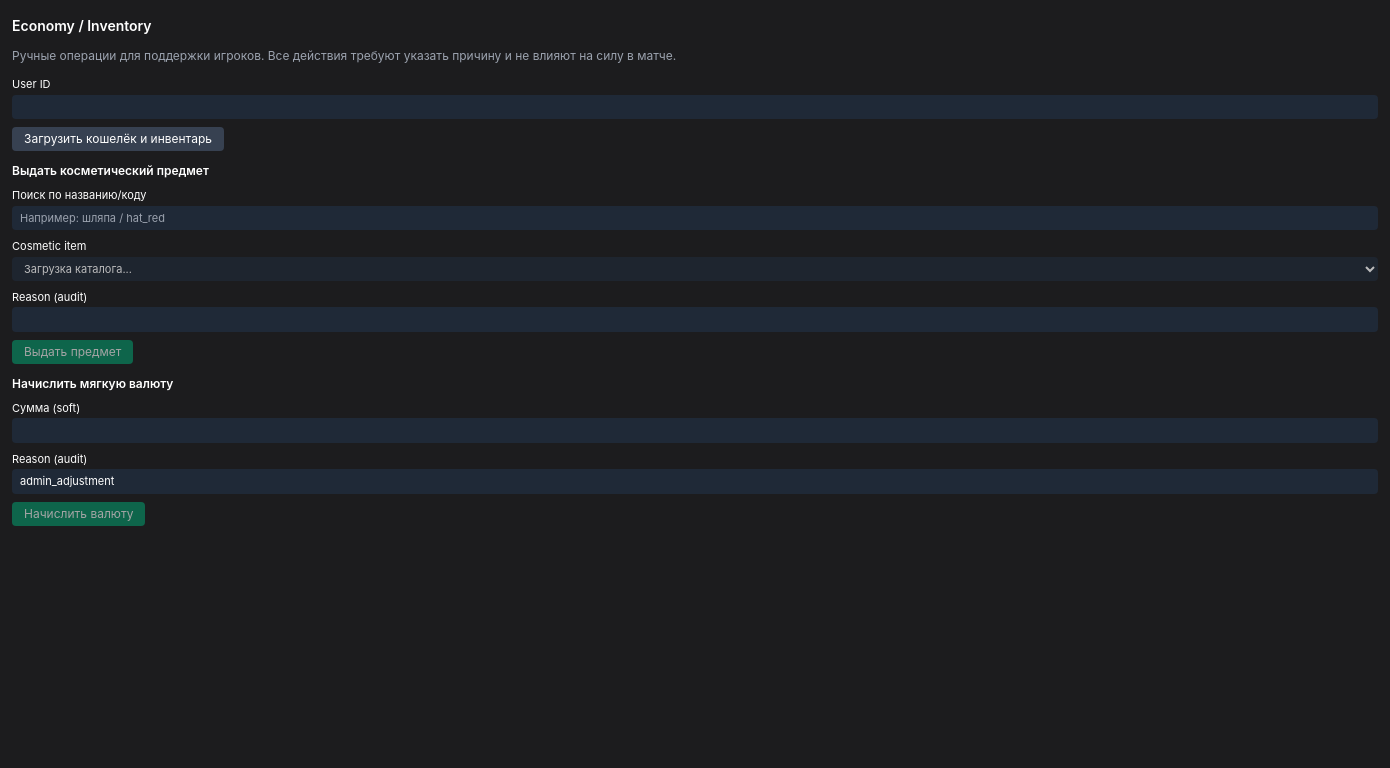
Test: AdminEconomySection › loads wallet and inventory for user
Type "u1" into the field labelled "User ID".
click(695, 107); type("u1")  # box left=12, top=94, right=1378, bottom=119
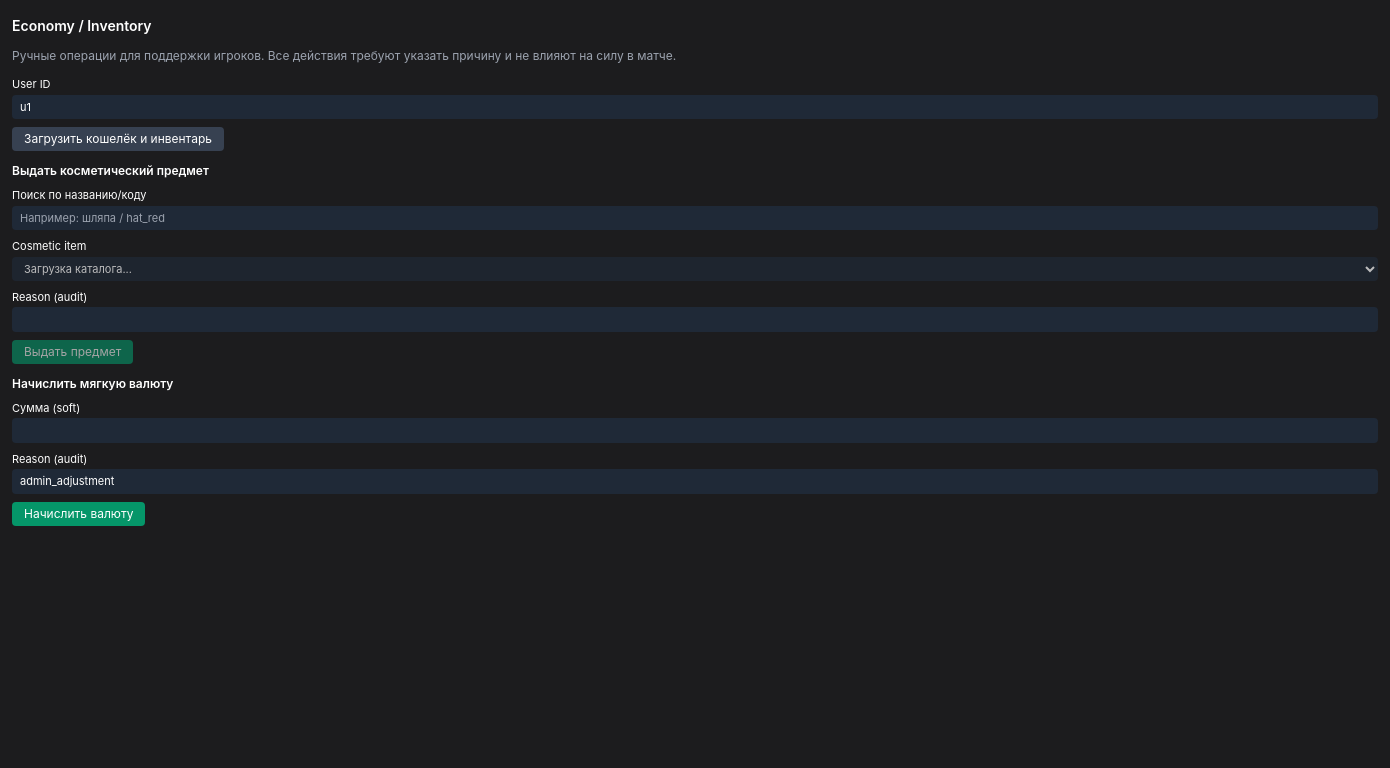
Click the button "Загрузить кошелёк и инвентарь".
click(118, 139)  # box left=12, top=127, right=224, bottom=151
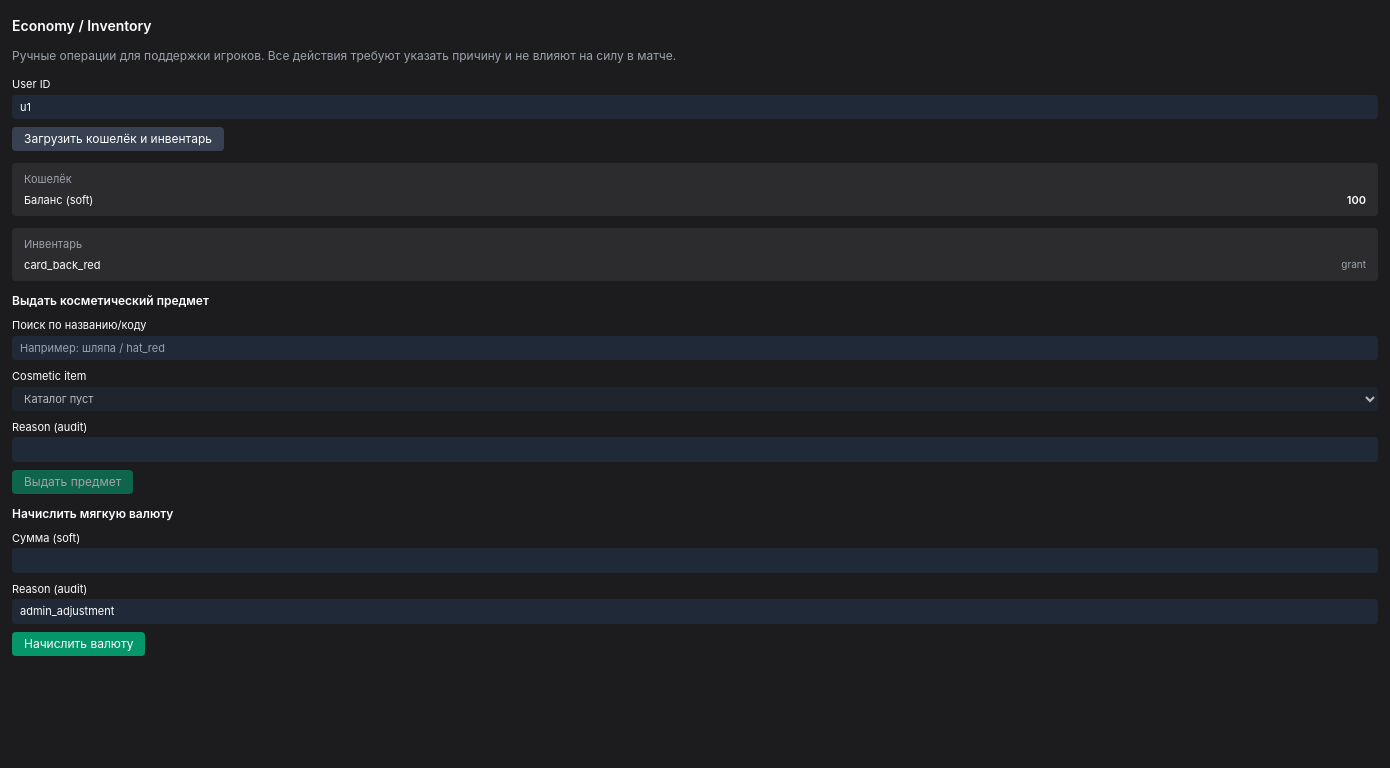
Now the text "Баланс (soft)" is shown, box left=24, top=192, right=93, bottom=208
Now the text "100" is shown, box left=1347, top=192, right=1366, bottom=208
Now the text "card_back_red" is shown, box left=24, top=256, right=100, bottom=273
